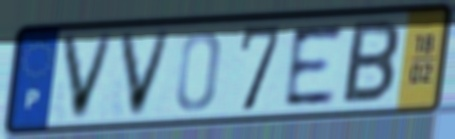0: (173, 28, 224, 114)
7: (237, 24, 282, 114)
B: (338, 18, 403, 108)
E: (282, 20, 347, 110)
V: (58, 30, 119, 124), (116, 27, 177, 120)
